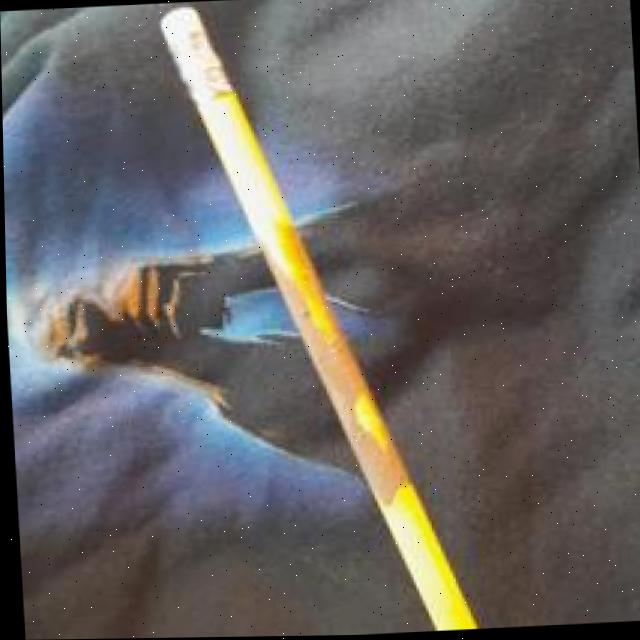pencil: (141, 3, 502, 630)
